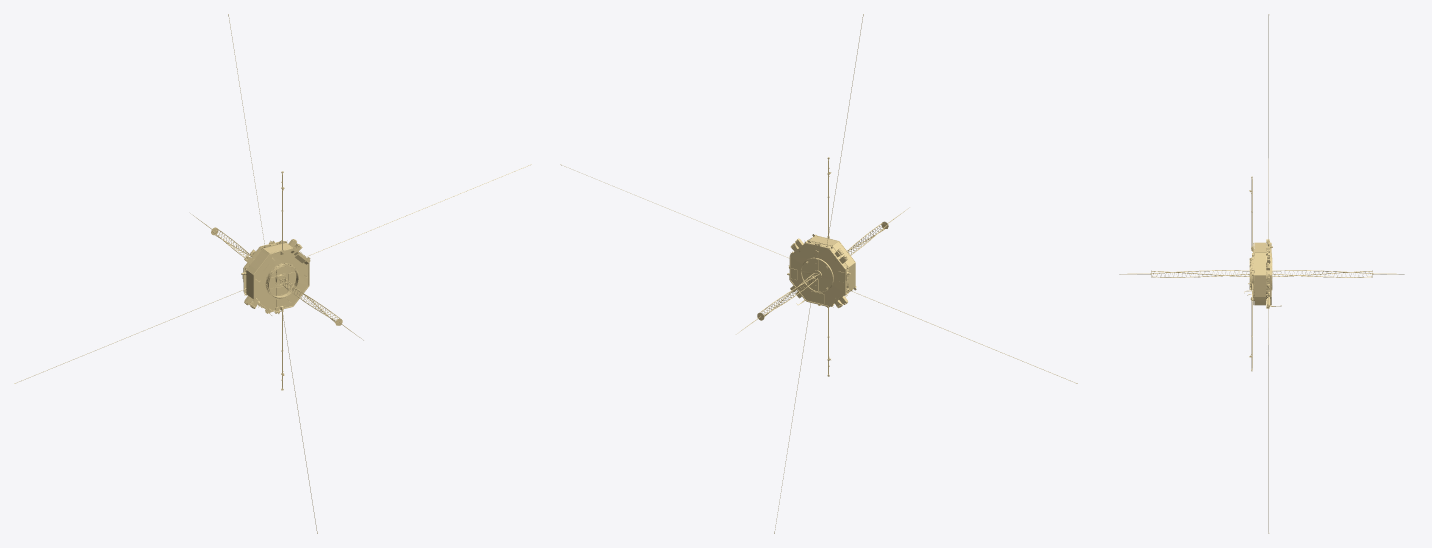
Rendered from mms.glb.
The picture shows the model from 3 angles, left to right: view 1: azimuth 30°, elevation 25°; view 2: azimuth 150°, elevation 25°; view 3: azimuth 270°, elevation 25°; orthographic projection. The views are drawn at different scales.
Parts seen in each view (by area): view 1: body; view 2: body; view 3: body.
Boxes of the visible parts, x1,y1,x2,y2 form: body: (14, 14, 531, 533); body: (560, 14, 1077, 533); body: (1119, 14, 1404, 533).
Bounding box in the file's own units: 8.53 × 8.53 × 5.
